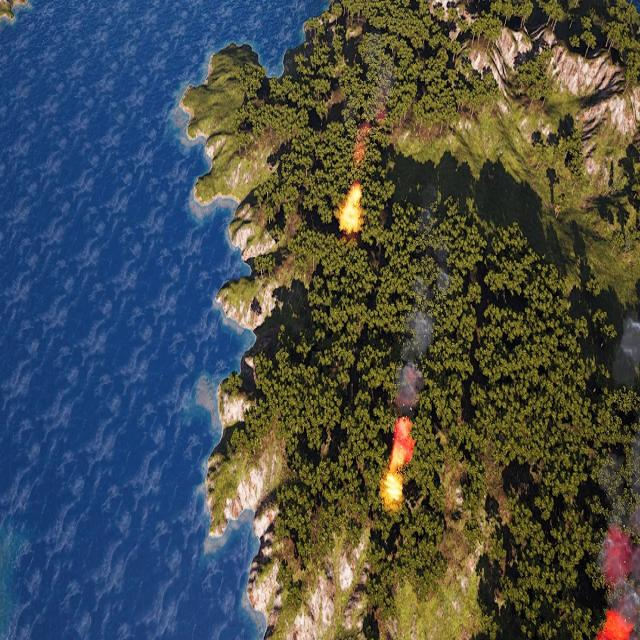fire: (376, 424, 412, 506), (339, 184, 364, 231)
smoke: (574, 301, 637, 640), (388, 214, 456, 443)
